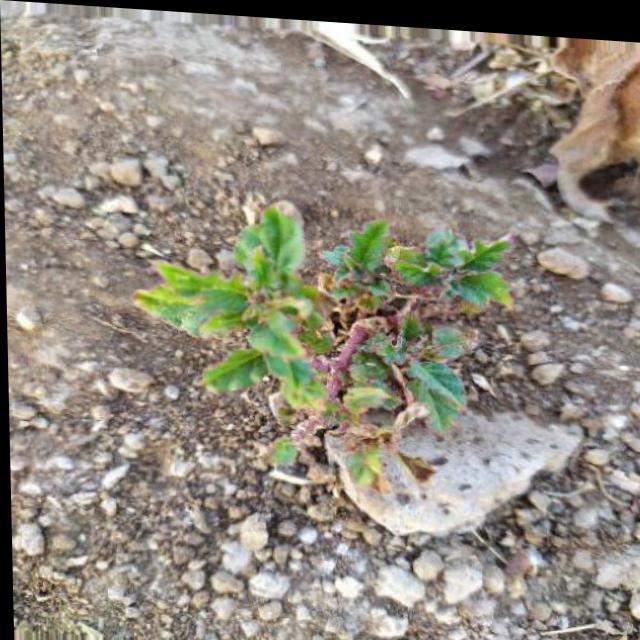weed: (134, 193, 528, 513)
